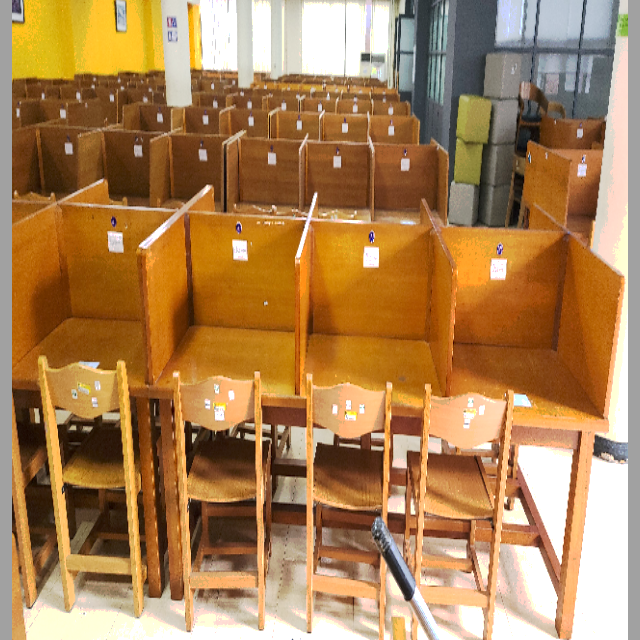empty: (466, 208, 623, 476), (304, 205, 452, 477), (157, 220, 295, 479)
